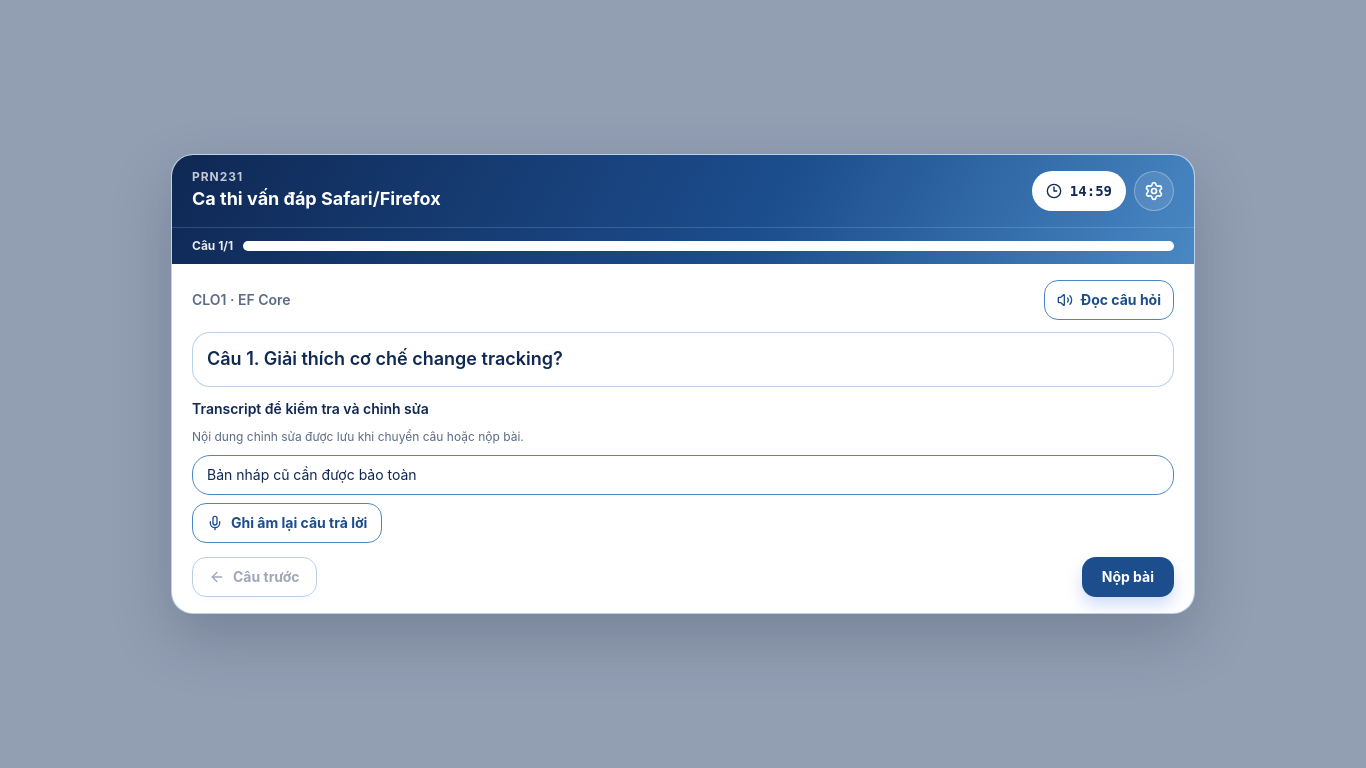
Test: InClassExamSessionPage M2 cross-device fallback & question images › handles mic permission denial without locking textarea and preserves existing draft on silent STT failure
This screenshot has width=1366, height=768.
// Bấm ghi âm lại khi quyền micro bị từ chối
Click the button "Ghi âm lại câu trả lời": (287, 523) x1=192 y1=503 x2=382 y2=543
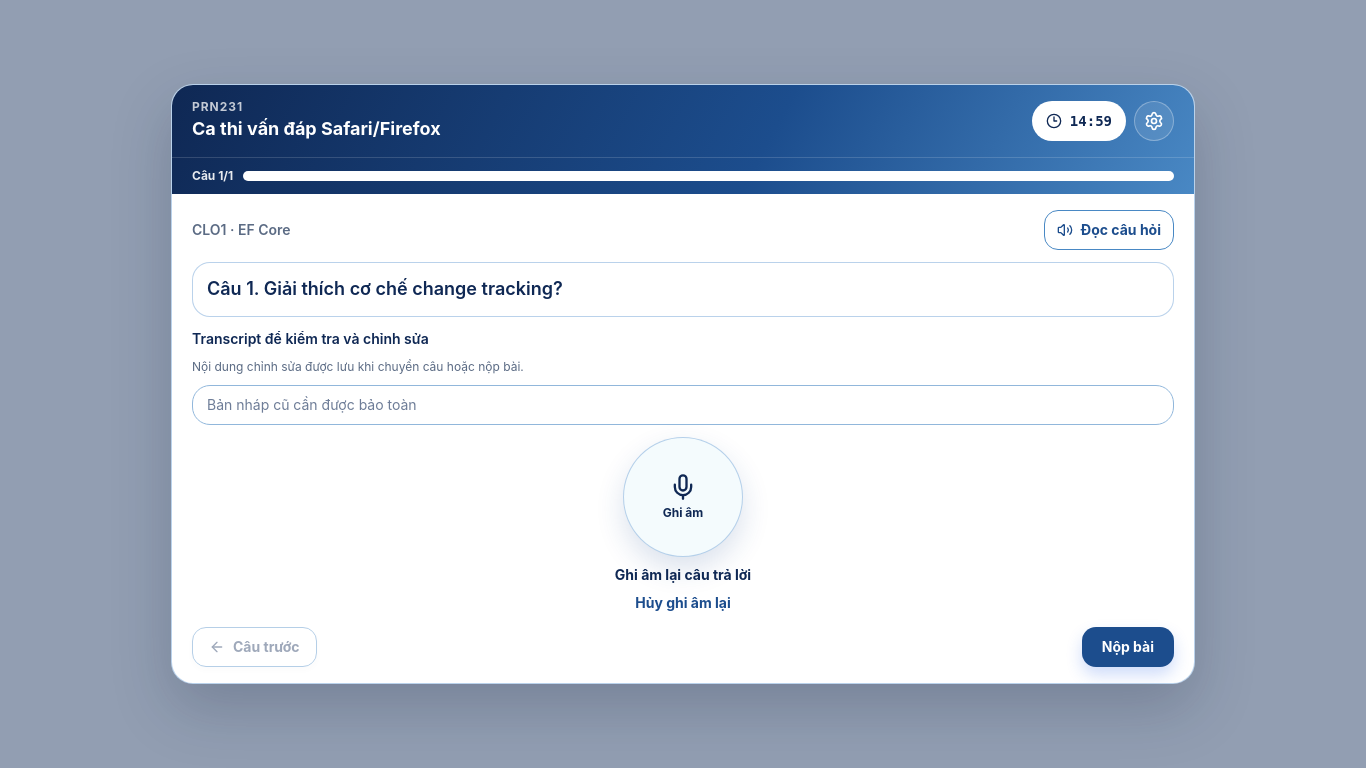
Click the button with aria-label "Bắt đầu ghi âm": (683, 497) x1=623 y1=437 x2=743 y2=557
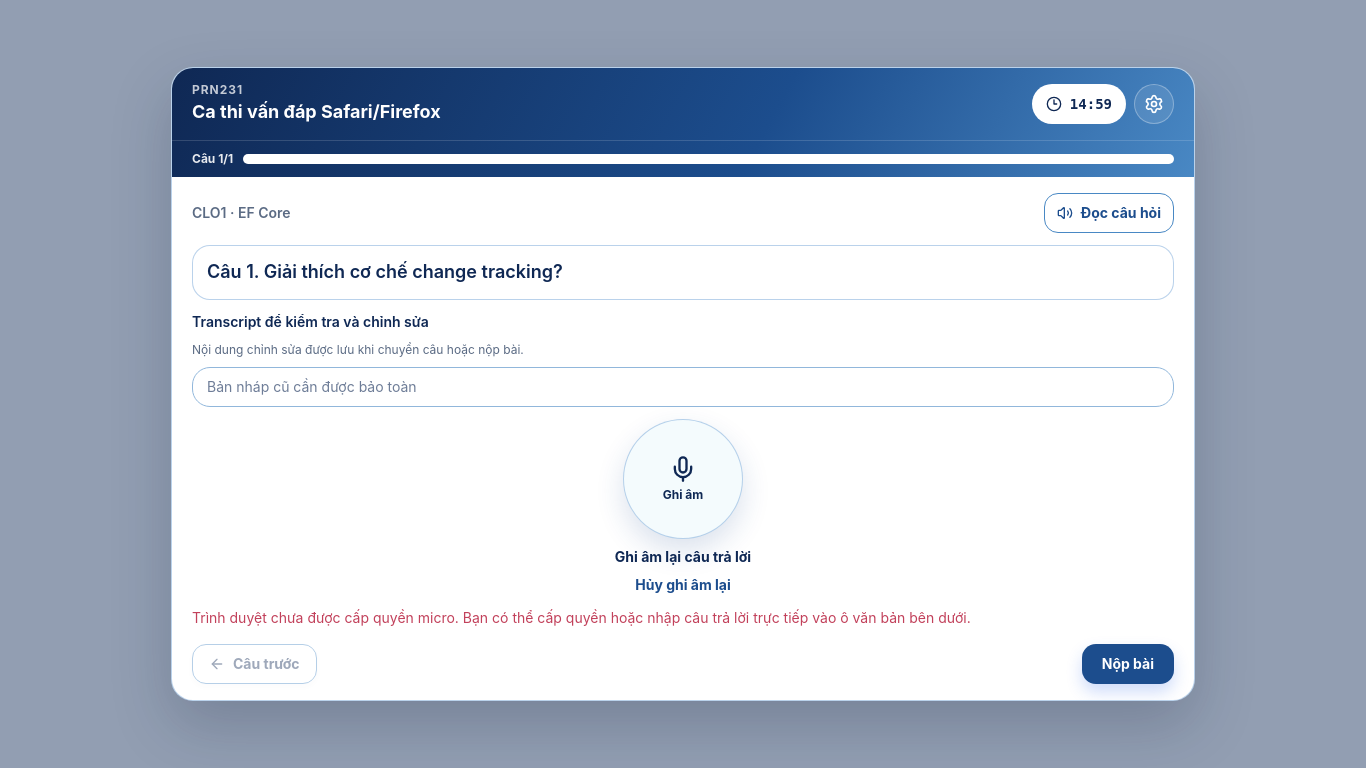
Check: the text "Trình duyệt chưa được cấp quyền micro" is shown, box x1=192 y1=609 x2=971 y2=626
Click the button "Hủy ghi âm lại": (683, 585) x1=635 y1=575 x2=731 y2=595
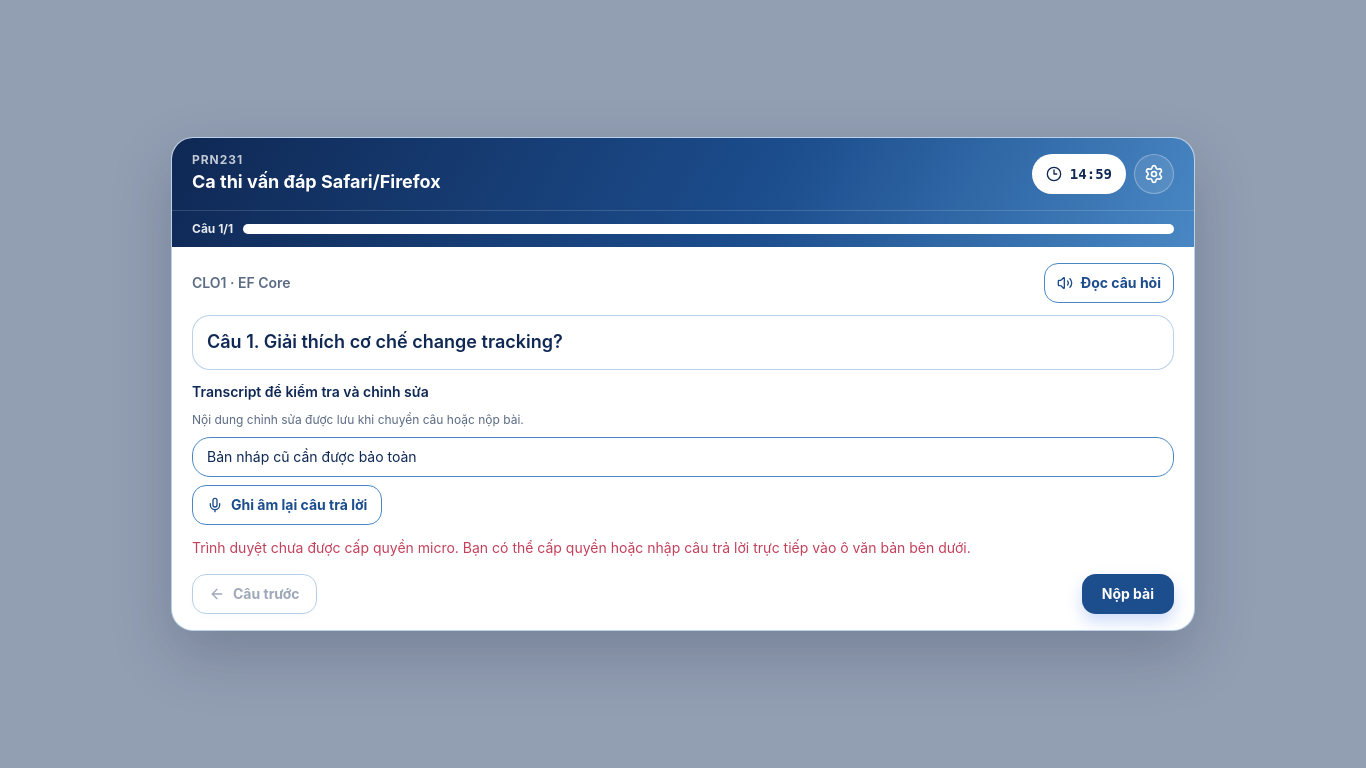
Check: the text box labelled "Transcript để kiểm tra và chỉnh sửa" holds "Bản nháp cũ cần được bảo toàn", box x1=192 y1=437 x2=1174 y2=477
Check: the text box labelled "Transcript để kiểm tra và chỉnh sửa" is enabled, box x1=192 y1=437 x2=1174 y2=477
Click the button "Ghi âm lại câu trả lời": (287, 505) x1=192 y1=485 x2=382 y2=525
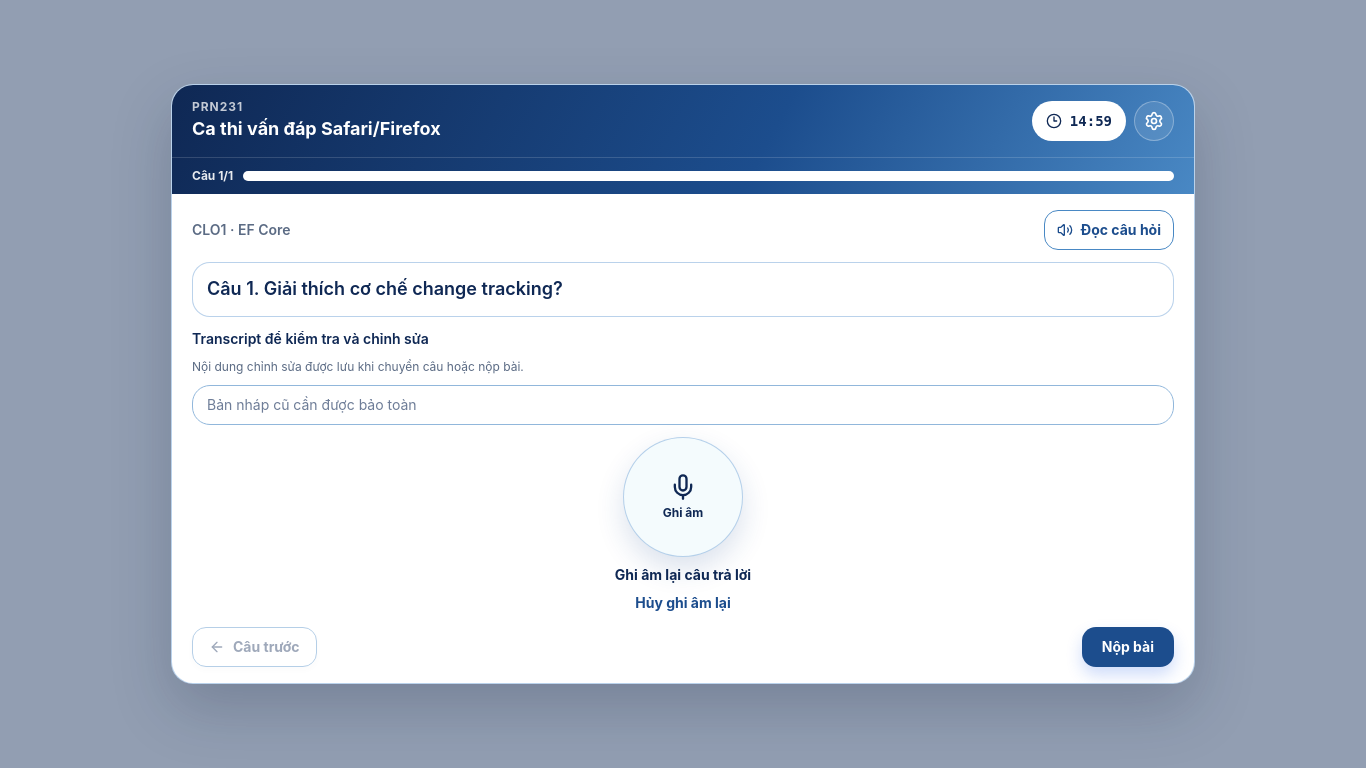
Click the button with aria-label "Bắt đầu ghi âm": (683, 497) x1=623 y1=437 x2=743 y2=557
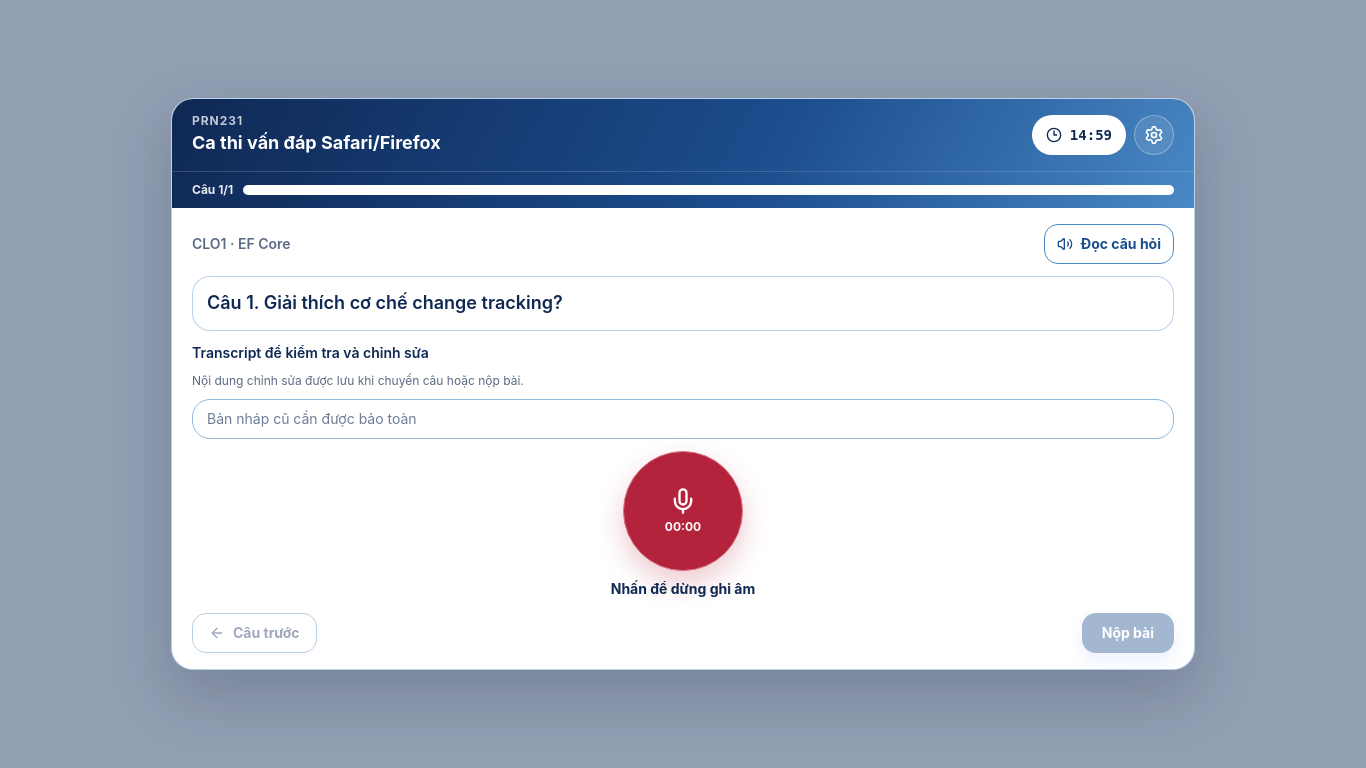
Click the button named "Dừng ghi âm": (683, 511) x1=623 y1=451 x2=743 y2=571
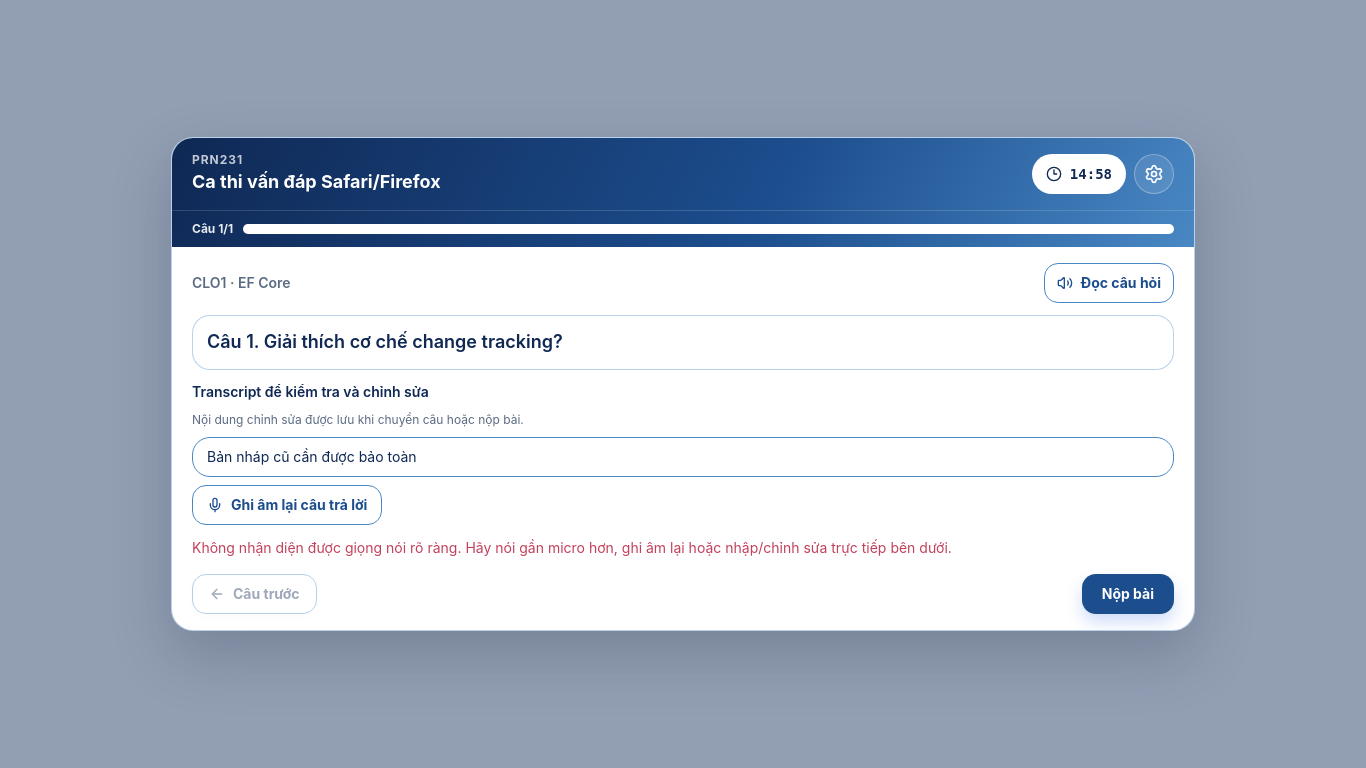
Check: the text box labelled "Transcript để kiểm tra và chỉnh sửa" holds "Bản nháp cũ cần được bảo toàn", box x1=192 y1=437 x2=1174 y2=477
Check: the text "Không nhận diện được giọng nói rõ ràng" is shown, box x1=192 y1=539 x2=952 y2=556
Check: the text box labelled "Transcript để kiểm tra và chỉnh sửa" is enabled, box x1=192 y1=437 x2=1174 y2=477
